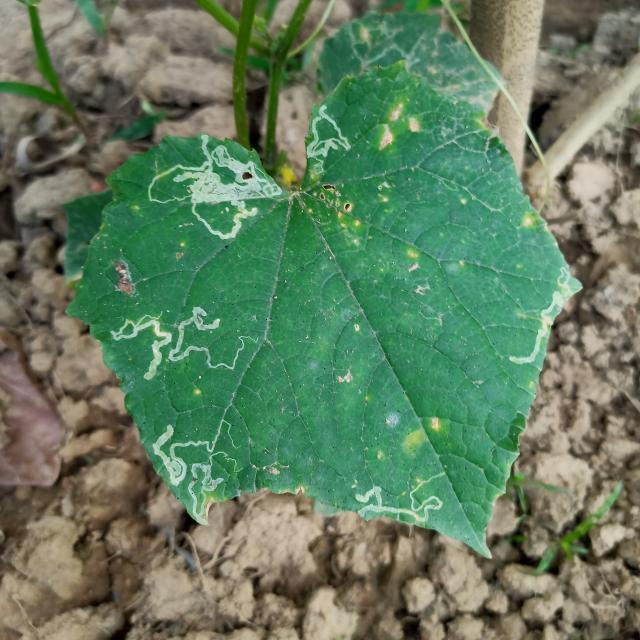disease_cucumber: (374, 105, 426, 154), (318, 179, 362, 232), (403, 415, 444, 453)
